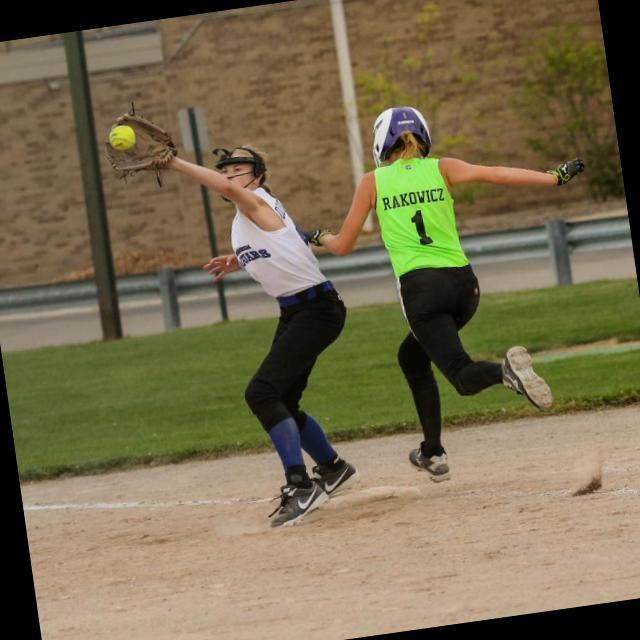Tennis Ball: (108, 125, 137, 150)
